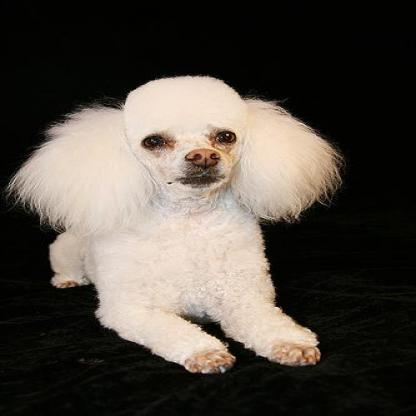miniature_poodle: (0, 74, 344, 372)
